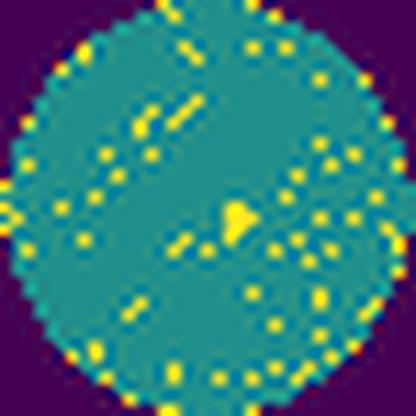Center: (215, 197, 265, 254)
